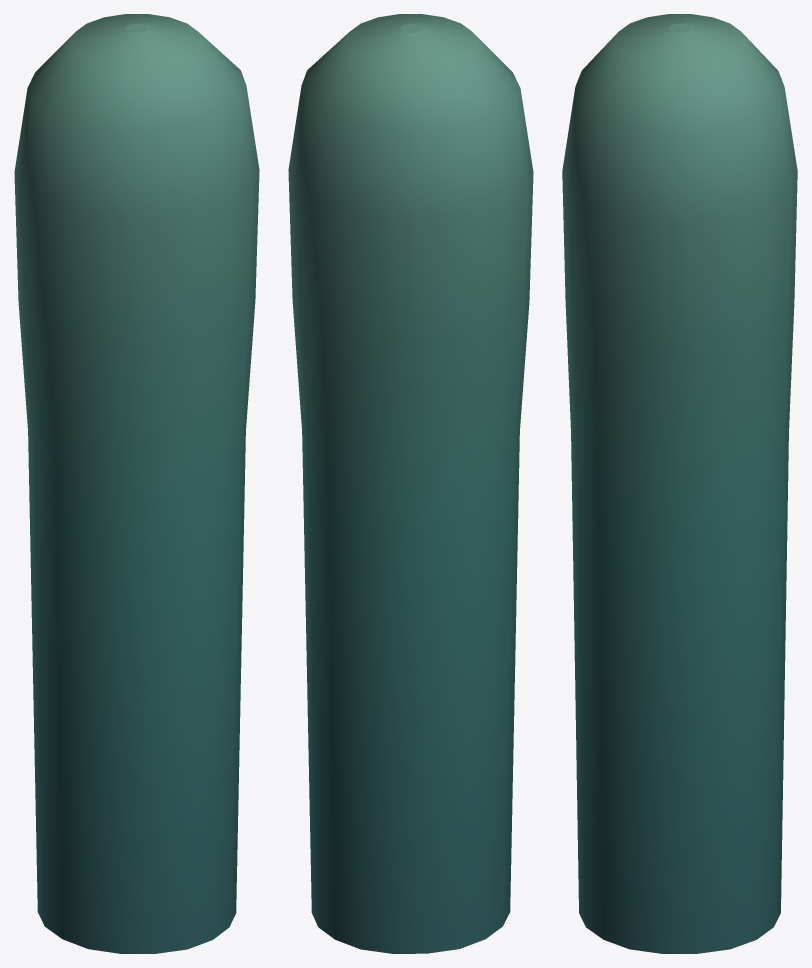
File: merchant_esme_upper_l.glb
3 renders of one model, left to right at view 1: azimuth 30°, elevation 25°; view 2: azimuth 150°, elevation 25°; view 3: azimuth 270°, elevation 25°, orthographic.
Visible parts, largest first — view 1: merchant_esme_upper_l; view 2: merchant_esme_upper_l; view 3: merchant_esme_upper_l.
Part boxes in pixels (x1,y1,x2,y2): merchant_esme_upper_l: [14, 14, 259, 953]; merchant_esme_upper_l: [288, 14, 533, 953]; merchant_esme_upper_l: [562, 14, 797, 953].
Size of the model in its own units: 0.334 by 1.33 by 0.3213.
Materials: 1 (1 with a texture image).
